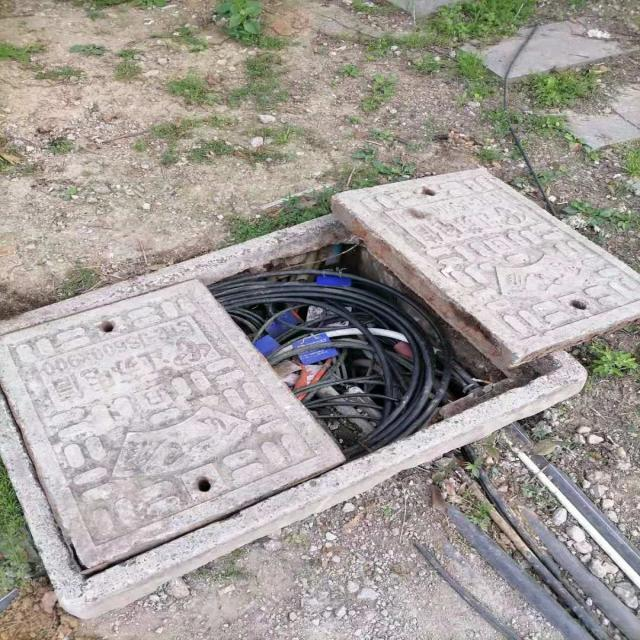Faulty: (5, 166, 639, 616)
